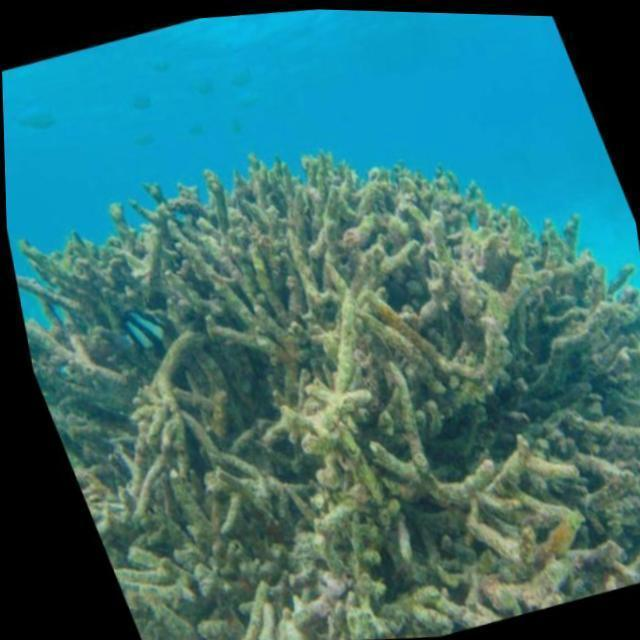Dead Coral: (26, 136, 640, 640)
